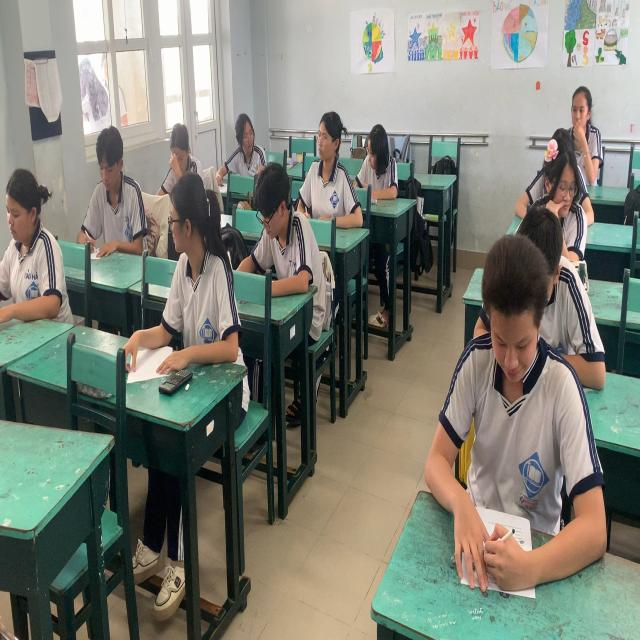cheating: (157, 174, 233, 395), (520, 129, 588, 229), (356, 104, 402, 194), (219, 112, 269, 167)
not_cheating: (457, 240, 579, 578), (0, 166, 79, 342), (79, 111, 151, 250), (254, 174, 313, 287), (306, 102, 346, 202), (161, 112, 206, 184), (566, 66, 600, 142)
